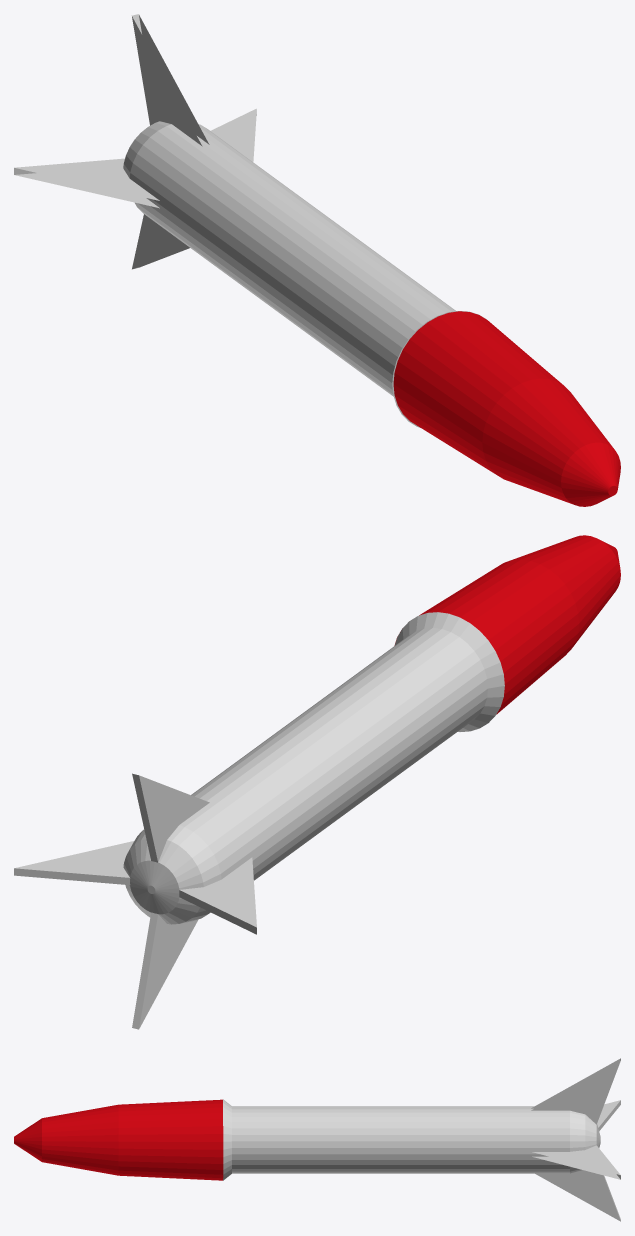
Rendered from BasicMissile.fbx.
The picture shows the model from 3 angles, top to bottom: view 1: azimuth 30°, elevation 25°; view 2: azimuth 150°, elevation 25°; view 3: azimuth 270°, elevation 25°; orthographic projection. The views are drawn at different scales.
Parts seen in each view (by area): view 1: Cylinder.001; view 2: Cylinder.001; view 3: Cylinder.001.
Boxes of the visible parts, x1,y1,x2,y2 form: Cylinder.001: [14, 14, 620, 506]; Cylinder.001: [14, 535, 620, 1029]; Cylinder.001: [14, 1058, 620, 1221].
Bounding box in the file's own units: 6.96 × 6.96 × 23.7.
